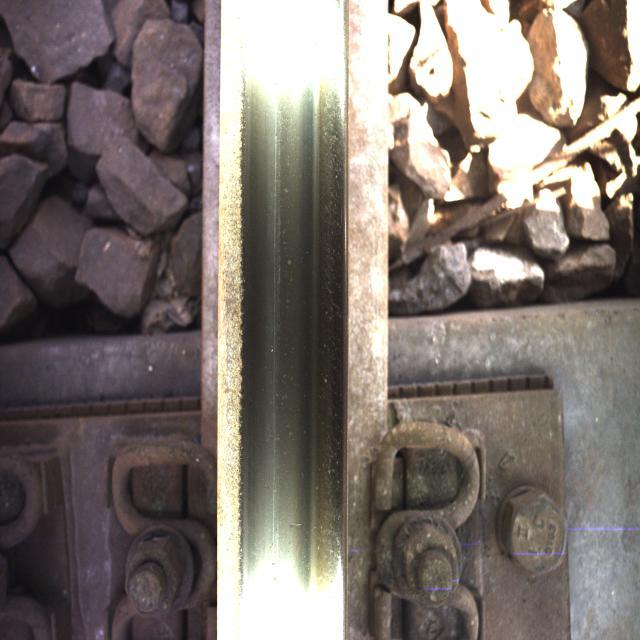break: (244, 41, 335, 579)
